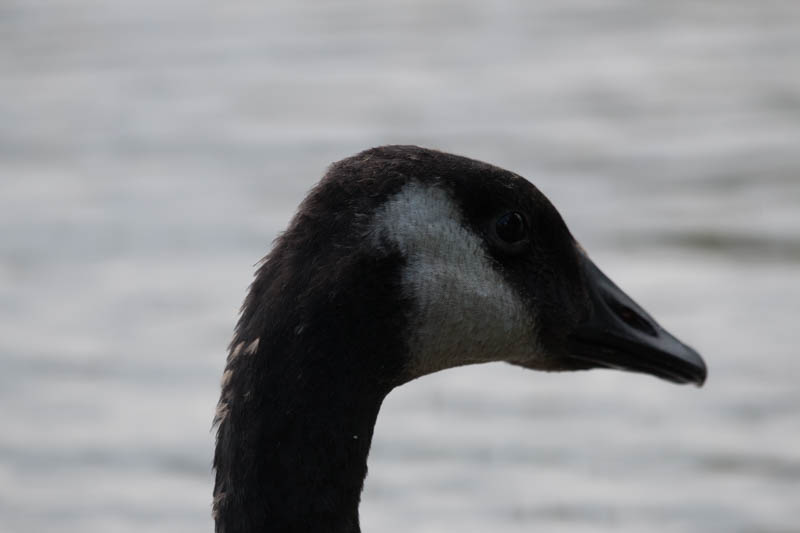goose-head: (240, 144, 703, 381)
